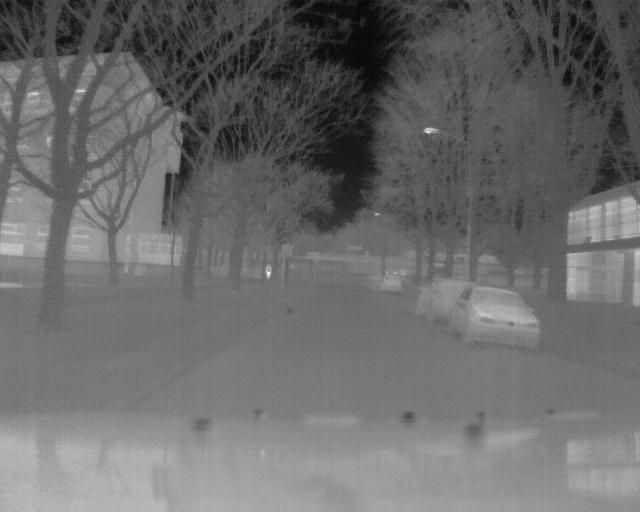car: (454, 283, 555, 349), (369, 270, 406, 295), (422, 281, 450, 314)
person: (264, 261, 275, 282)
